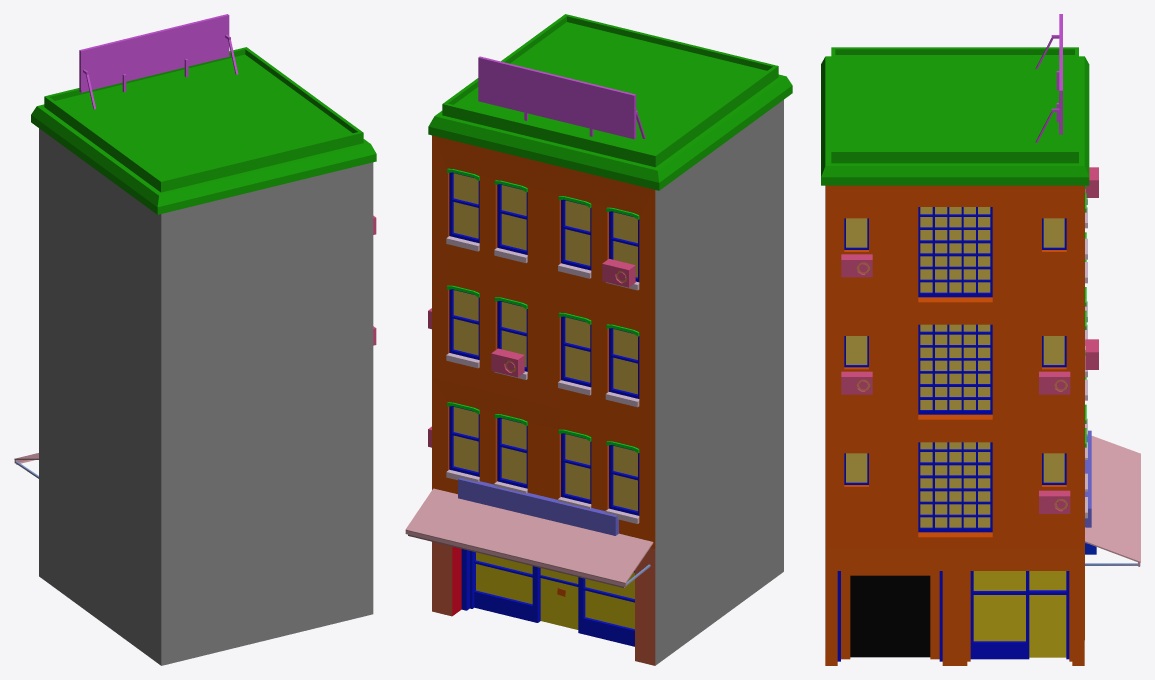
The model's file is Building7.fbx.
3 renders of one model, left to right at view 1: azimuth 30°, elevation 25°; view 2: azimuth 150°, elevation 25°; view 3: azimuth 270°, elevation 25°, orthographic. The views are drawn at different scales.
Visible parts, largest first — view 1: Edificio 7_LP; view 2: Edificio 7_LP; view 3: Edificio 7_LP.
Part boxes in pixels (x1,y1,x2,y2): Edificio 7_LP: [14, 14, 376, 665]; Edificio 7_LP: [405, 14, 792, 665]; Edificio 7_LP: [821, 14, 1140, 665].
Bounding box in the file's own units: 863 × 1899 × 987.
